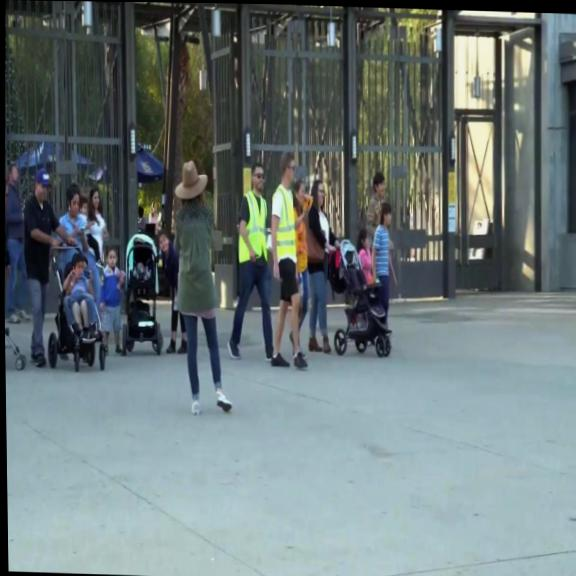safety_vest: (237, 191, 268, 264), (274, 185, 298, 259)
